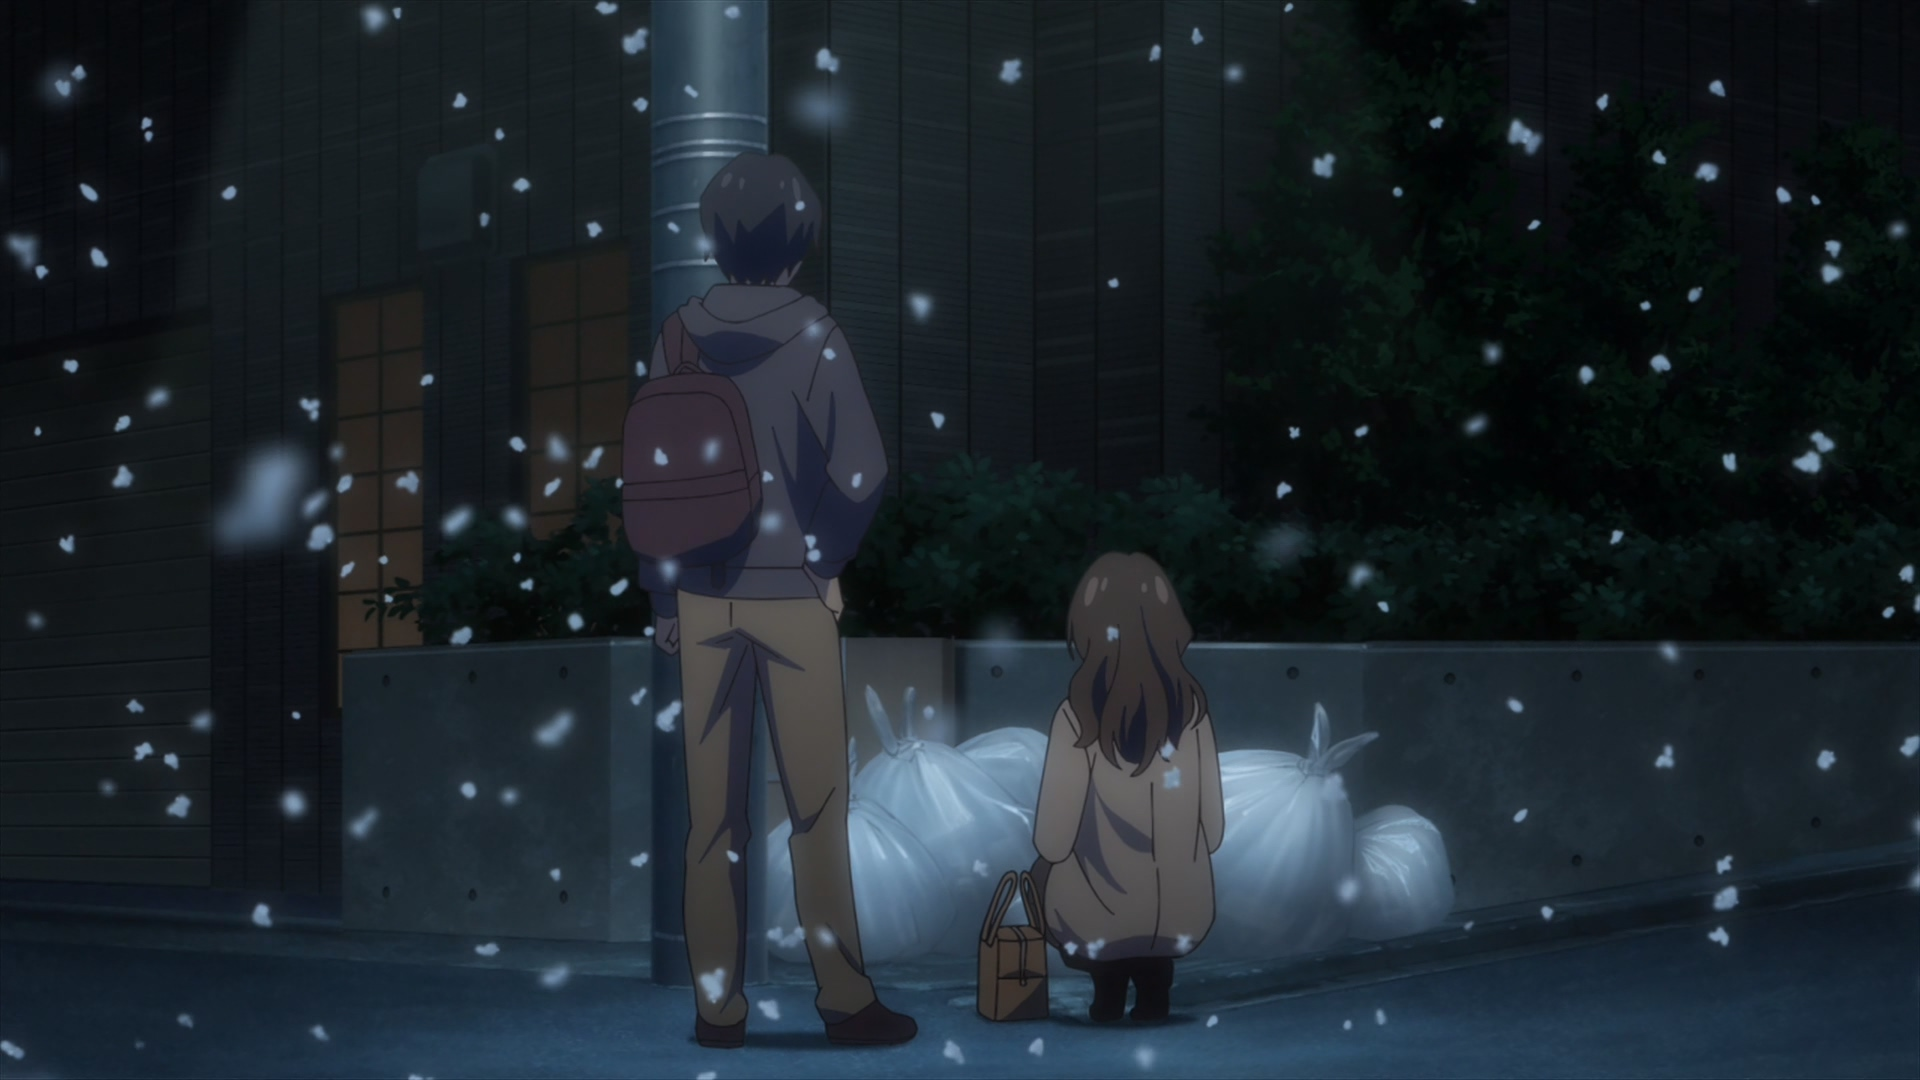其他: (622, 152, 916, 1048), (1022, 553, 1226, 1031)
